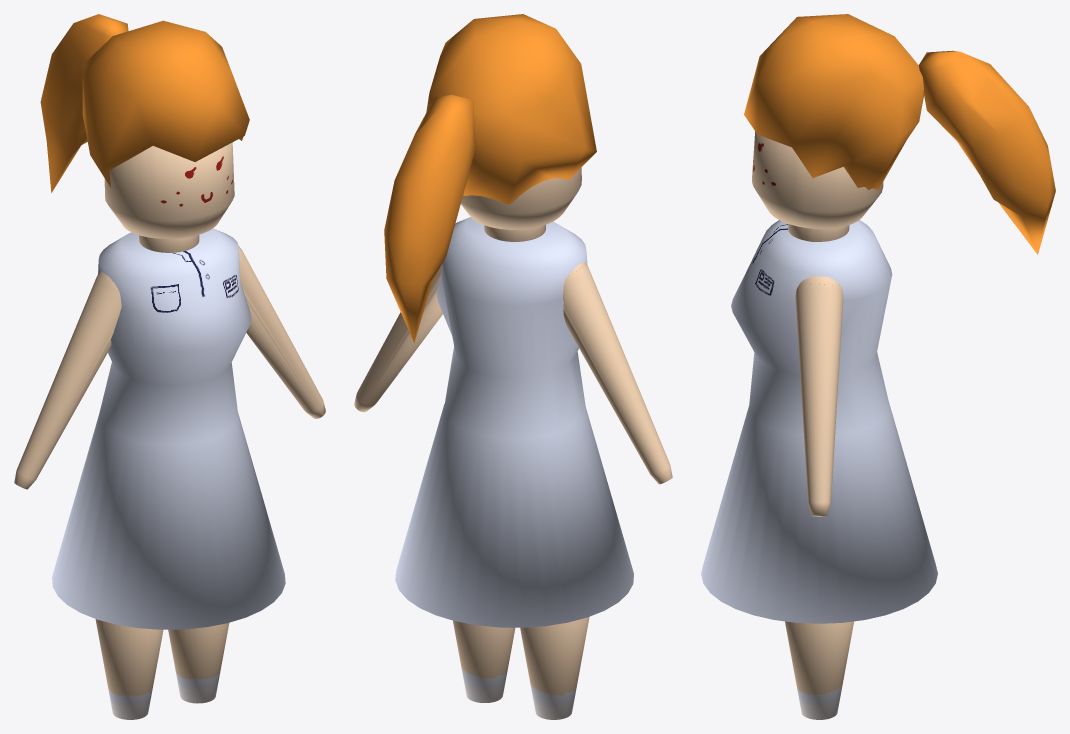
File: doctor.fbx
3 views of the same model, side by side, from view 1: azimuth 30°, elevation 25°; view 2: azimuth 150°, elevation 25°; view 3: azimuth 270°, elevation 25° (orthographic). The views are drawn at different scales.
Visible parts, largest first — view 1: Cylinder.002, Icosphere, Cylinder.003, Cylinder.004, Cylinder; view 2: Cylinder.002, Icosphere, Cylinder.003, Cylinder, Cylinder.004; view 3: Cylinder.002, Icosphere, Cylinder.003, Cylinder.004, Cylinder.
Part boxes in pixels (box(x1,y1,x2,y2)): Cylinder.002: box(52, 228, 285, 629); Icosphere: box(40, 14, 249, 192); Cylinder.003: box(14, 246, 325, 489); Cylinder.004: box(104, 142, 234, 252); Cylinder: box(95, 619, 229, 719); Cylinder.002: box(395, 217, 633, 627); Icosphere: box(384, 14, 596, 342); Cylinder.003: box(354, 262, 672, 484); Cylinder: box(453, 617, 589, 719); Cylinder.004: box(461, 167, 581, 241); Cylinder.002: box(701, 220, 937, 623); Icosphere: box(744, 14, 1055, 254); Cylinder.003: box(795, 276, 843, 516); Cylinder.004: box(752, 131, 883, 241); Cylinder: box(785, 621, 853, 719).
Size of the model in its own units: 305 by 629 by 299.
Materials: 5 (5 with a texture image).
